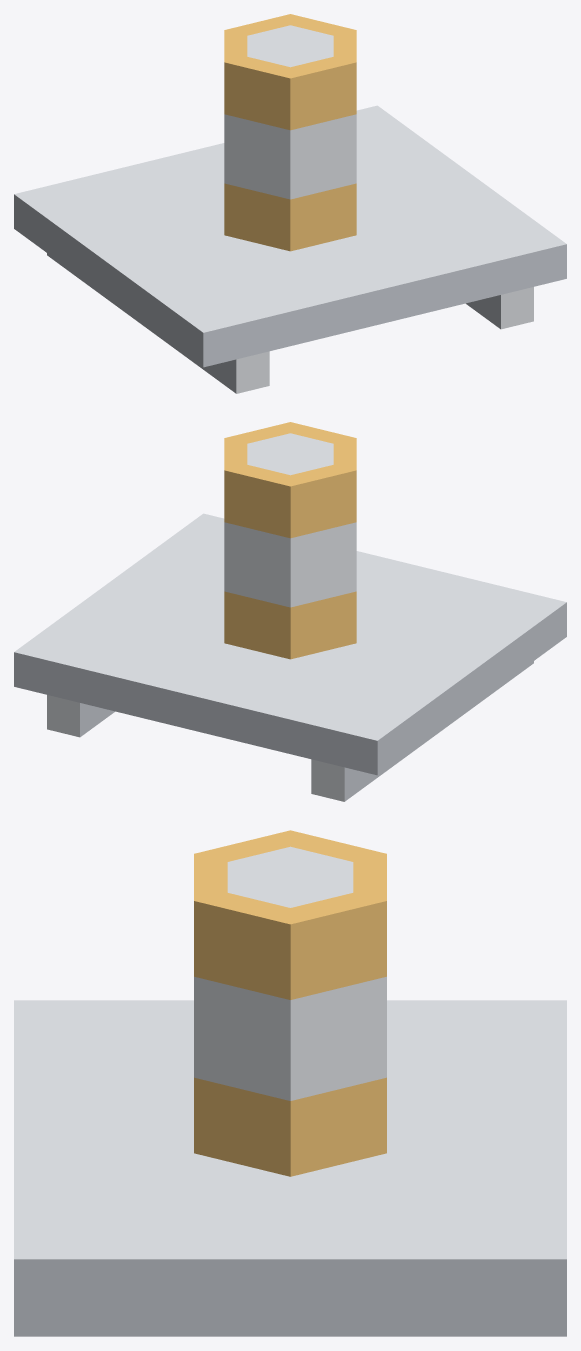
File: barrels.glb
3 views of the same model, one above another, from view 1: azimuth 30°, elevation 25°; view 2: azimuth 150°, elevation 25°; view 3: azimuth 270°, elevation 25° (orthographic). The views are drawn at different scales.
Parts seen in each view (by area): view 1: barrels, barrels.002; view 2: barrels, barrels.002; view 3: barrels, barrels.002.
Boxes of the visible parts, bbox=[...] form: barrels: bbox=[14, 105, 566, 393]; barrels.002: bbox=[224, 14, 356, 251]; barrels: bbox=[14, 513, 566, 801]; barrels.002: bbox=[224, 422, 356, 659]; barrels: bbox=[14, 1000, 566, 1336]; barrels.002: bbox=[194, 830, 386, 1176].
Size of the model in its own units: 1.65 by 1.05 by 1.49.
